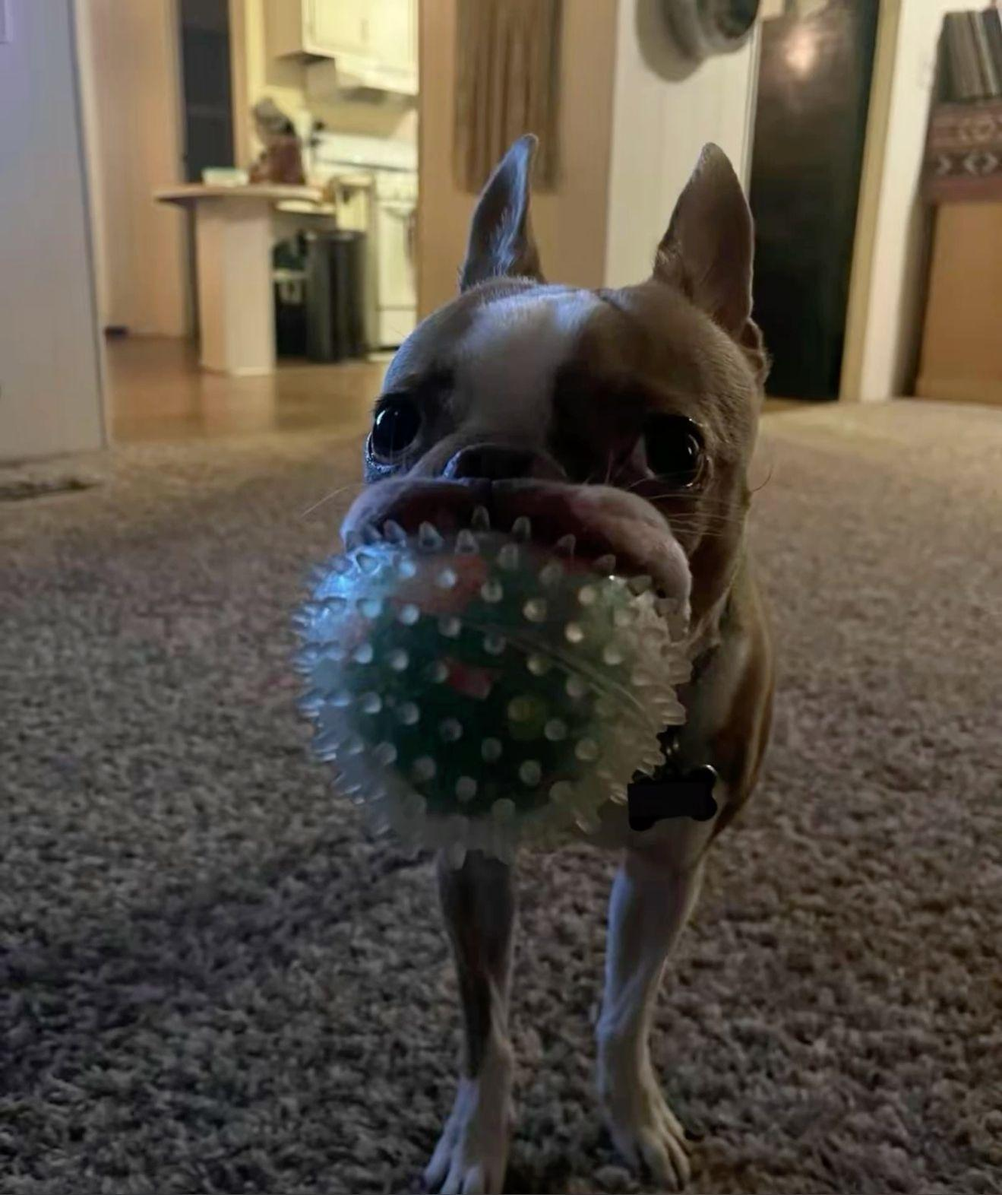adult_dog: (336, 130, 774, 1195)
